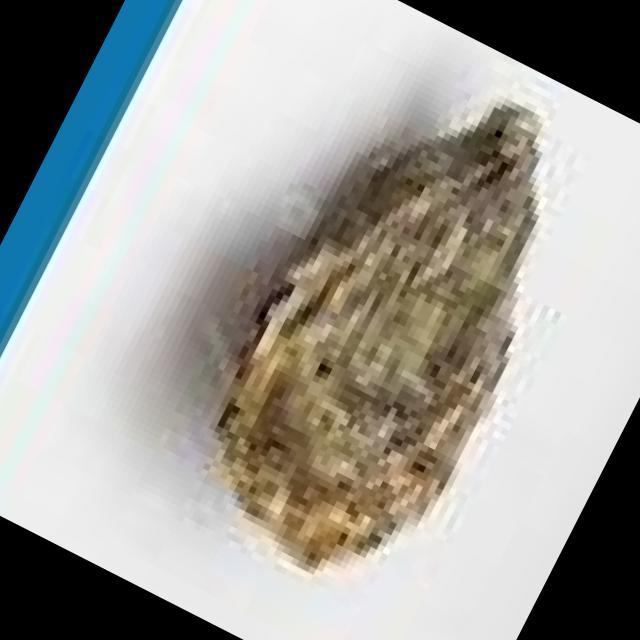Oyster- Indeterminate: (216, 100, 547, 573)
